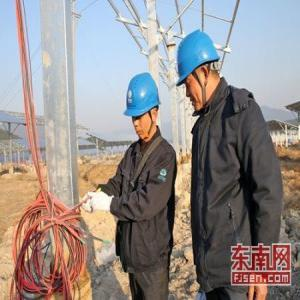blue: (177, 32, 218, 114), (126, 73, 162, 144)
